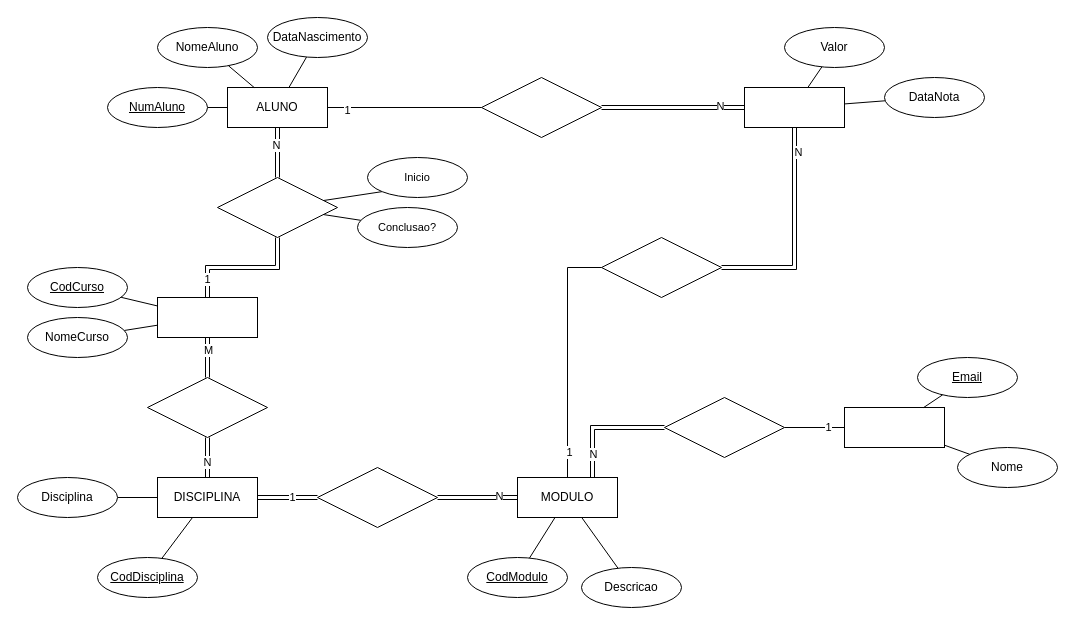
This 1075x625 diagram has some shape labels left out. Here are the shapes that lost their labels. From the top down, the centre of each, then its label:
the point at 541,107: ALUNO_TEM_NOTA
the point at 794,107: NOTA
the point at 277,207: R4
the point at 661,267: NOTA_DE_MODULO
the point at 207,317: CRUSO
the point at 207,407: R3
the point at 724,427: R2
the point at 894,427: PROFESSOR
the point at 377,497: R1
